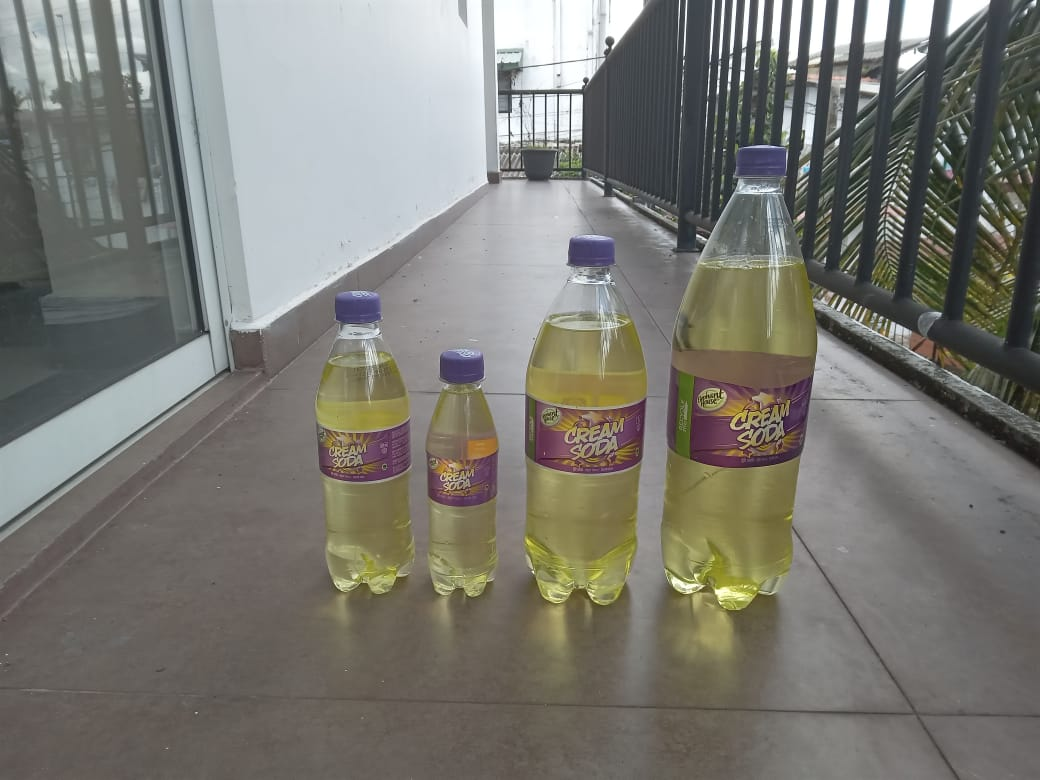L: (666, 144, 819, 611)
M: (525, 233, 648, 604)
S: (313, 294, 417, 595)
Xs: (422, 345, 502, 598)
